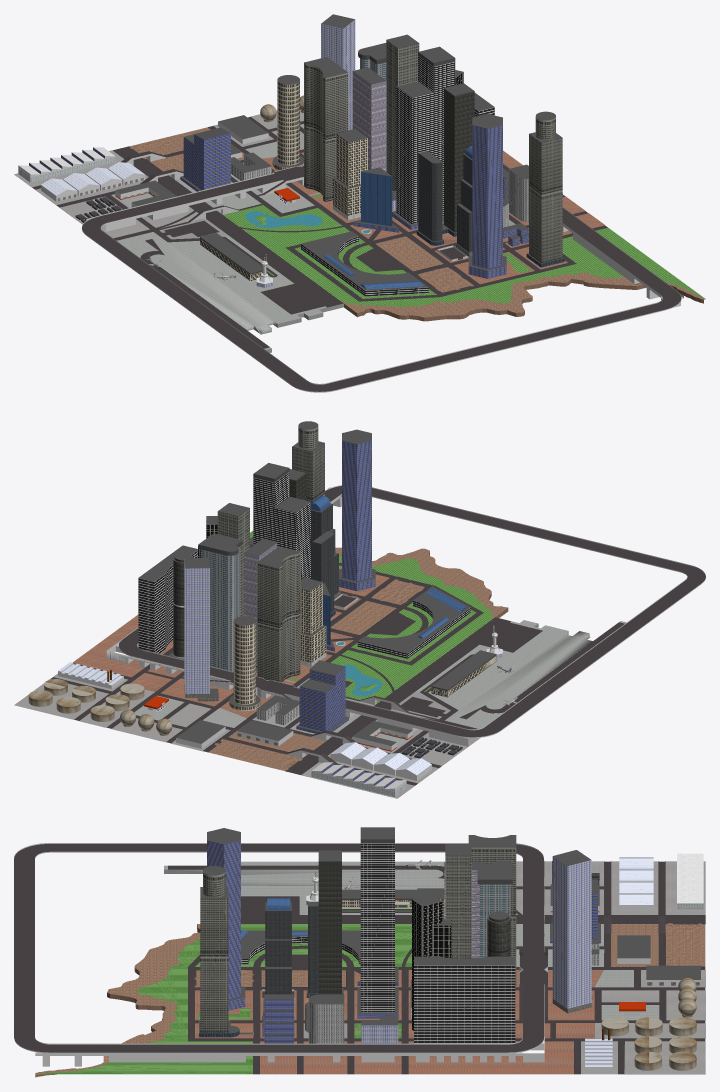
The model's file is City.FBX.
3 renders of one model, top to bottom at view 1: azimuth 30°, elevation 25°; view 2: azimuth 150°, elevation 25°; view 3: azimuth 270°, elevation 25°, orthographic. The views are drawn at different scales.
Parts seen in each view (by area): view 1: Alley, Highway Road, Road, Grass, Skyscrapper_17, Skyscrapper_18, Skyscrapper_2, Skyscrapper_12, Skyscrapper_1, Dirt, Hospital, Skyscrapper_11 (+20 smaller); view 2: Alley, Road, Highway Road, Grass, Skyscrapper_12, Skyscrapper_2, Skyscrapper_17, Skyscrapper_10, Skyscrapper_15, Skyscrapper_6, Silos, Building_1 (+24 smaller); view 3: Alley, Highway Road, Road, Skyscrapper_6, Skyscrapper_17, Grass, Skyscrapper_15, Skyscrapper_1, Dirt, Skyscrapper_18, Highway002, Silos (+21 smaller).
Boxes of the visible parts, x1,y1,x2,y2 form: Alley: (14,110,604,352); Highway Road: (81,163,681,392); Road: (113,116,607,348); Grass: (223,194,704,307); Skyscrapper_17: (392,46,455,229); Skyscrapper_18: (416,83,474,245); Skyscrapper_2: (468,114,506,278); Skyscrapper_12: (304,57,348,201); Skyscrapper_1: (526,111,564,267); Dirt: (150,145,705,321); Hospital: (301,231,428,296); Skyscrapper_11: (352,67,386,171); Alley: (14,565,626,798); Road: (50,562,624,774); Highway Road: (118,485,705,737); Grass: (250,531,492,703); Skyscrapper_12: (257,546,300,682); Skyscrapper_2: (339,429,375,591); Skyscrapper_17: (253,463,310,579); Skyscrapper_10: (198,533,242,671); Skyscrapper_15: (184,557,218,701); Skyscrapper_6: (138,545,197,653); Silos: (28,679,172,735); Building_1: (296,660,348,733); Alley: (109,861,705,1074); Highway Road: (14,843,544,1053); Road: (168,865,705,1074); Skyscrapper_6: (414,956,515,1043); Skyscrapper_17: (357,827,398,1018); Grass: (36,910,411,1074); Skyscrapper_15: (552,850,592,1013); Skyscrapper_1: (199,866,252,1037); Dirt: (35,924,658,1077); Skyscrapper_18: (306,850,343,997); Highway002: (35,877,547,1066); Silos: (601,977,696,1070).
Size of what is drawn, in the model's own units: 26287 by 10085 by 34649.
40 materials, 34 textured.
